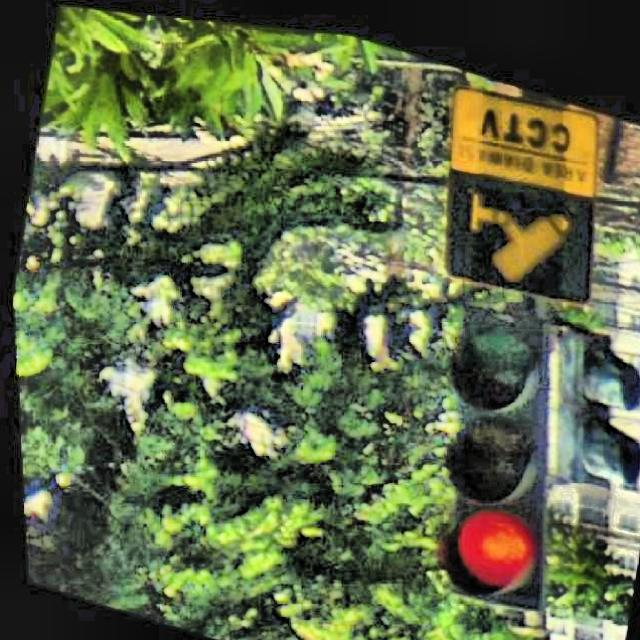red: (451, 306, 551, 616)
